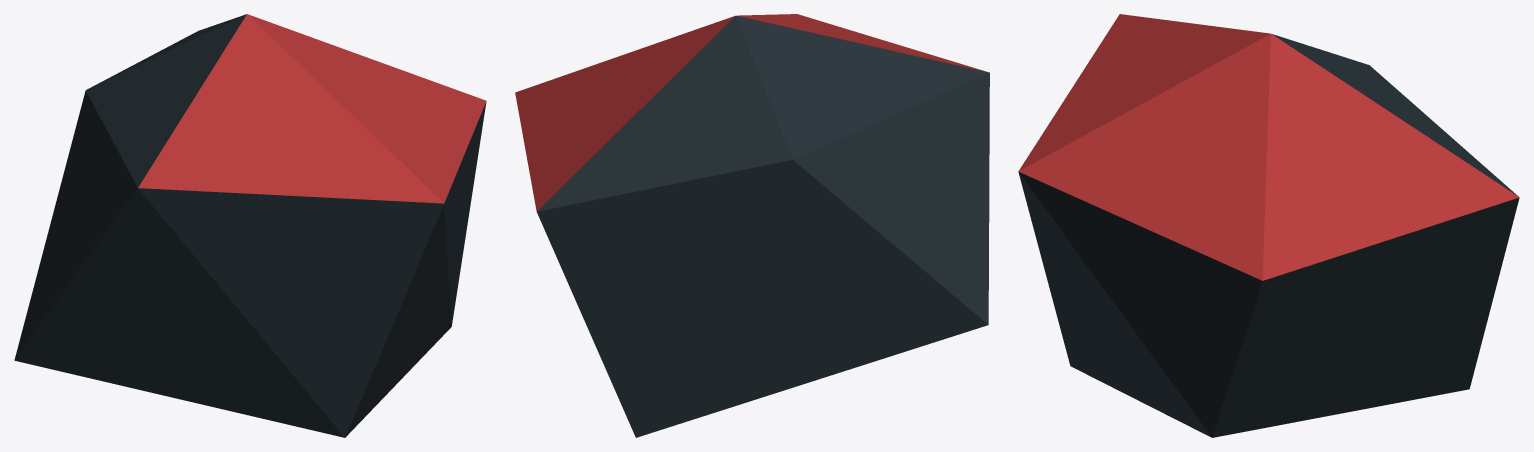
File: Broken_Planet_Rings_02_Asteroid.fbx
3 views of the same model, side by side, from view 1: azimuth 30°, elevation 25°; view 2: azimuth 150°, elevation 25°; view 3: azimuth 270°, elevation 25° (orthographic). The views are drawn at different scales.
Visible parts, largest first — view 1: Broken_Planet_Rings_02_Asteroid; view 2: Broken_Planet_Rings_02_Asteroid; view 3: Broken_Planet_Rings_02_Asteroid.
Boxes of the visible parts, x1,y1,x2,y2 form: Broken_Planet_Rings_02_Asteroid: (14, 14, 486, 437); Broken_Planet_Rings_02_Asteroid: (515, 14, 989, 437); Broken_Planet_Rings_02_Asteroid: (1018, 14, 1519, 437).
Bounding box in the file's own units: 1189 × 862 × 1104.
